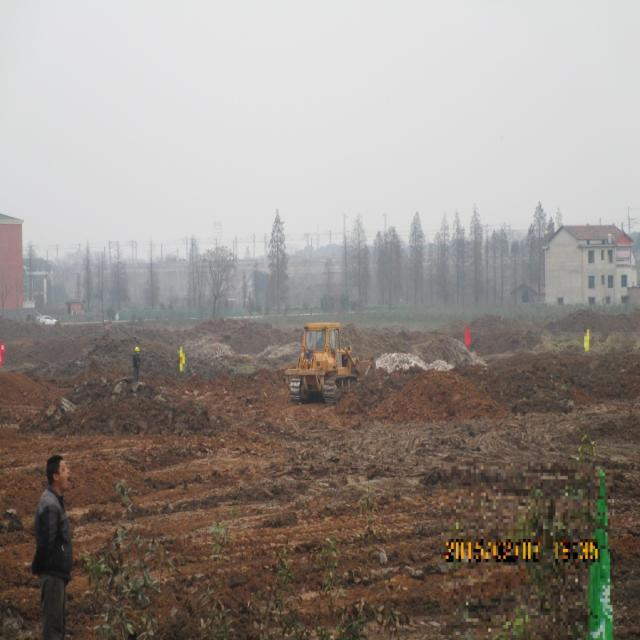machinery: (282, 320, 378, 405)
